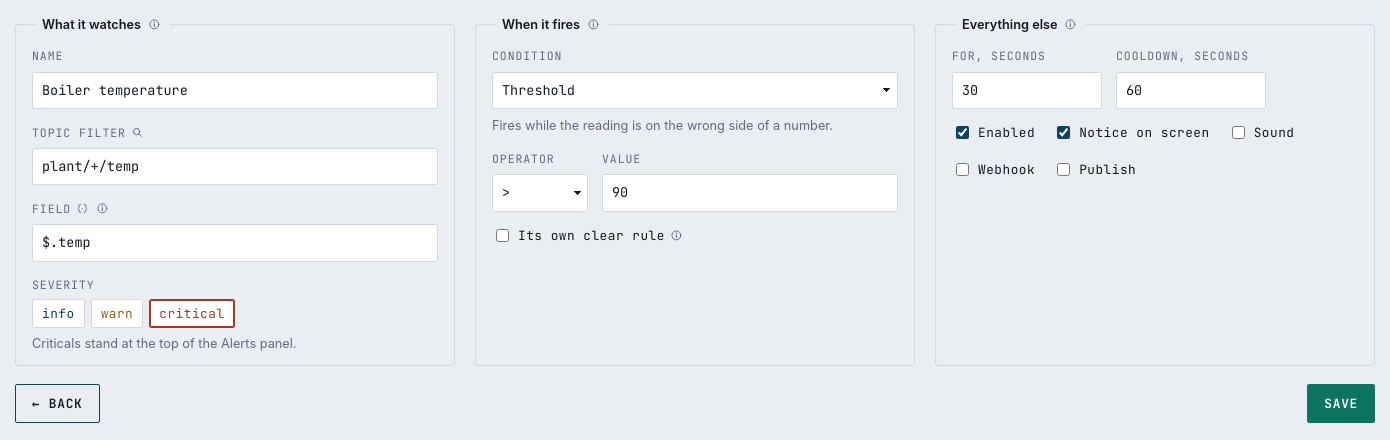
Test: what the editor refuses before the request › refuses a k outside the range the chosen method means
Select "Outlier" in the dropdown labelled "Condition": (695,90) [492,72,898,109]
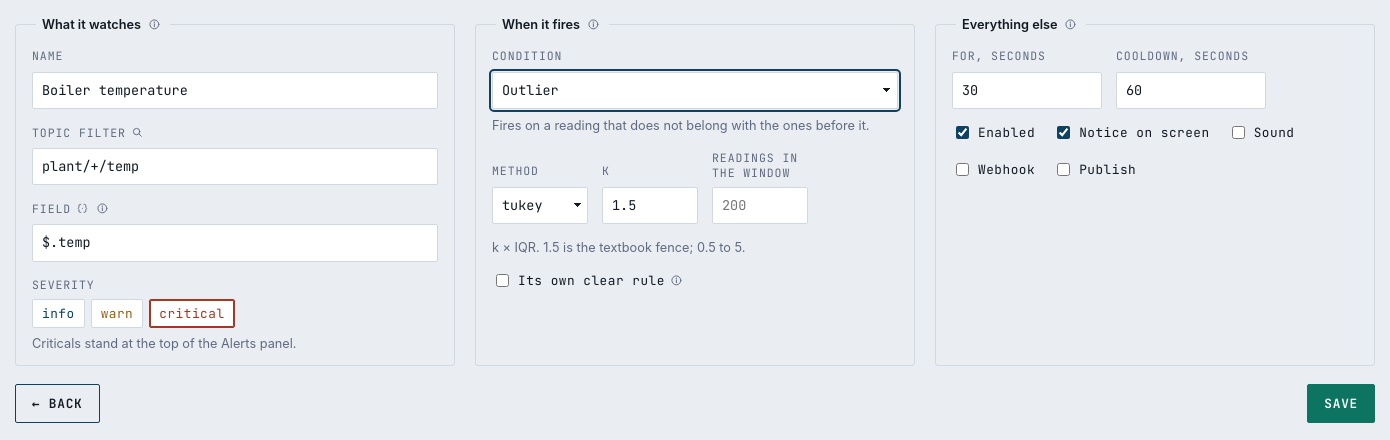
Select "sigma" in the dropdown labelled "Method": (540,205) [492,187,588,224]
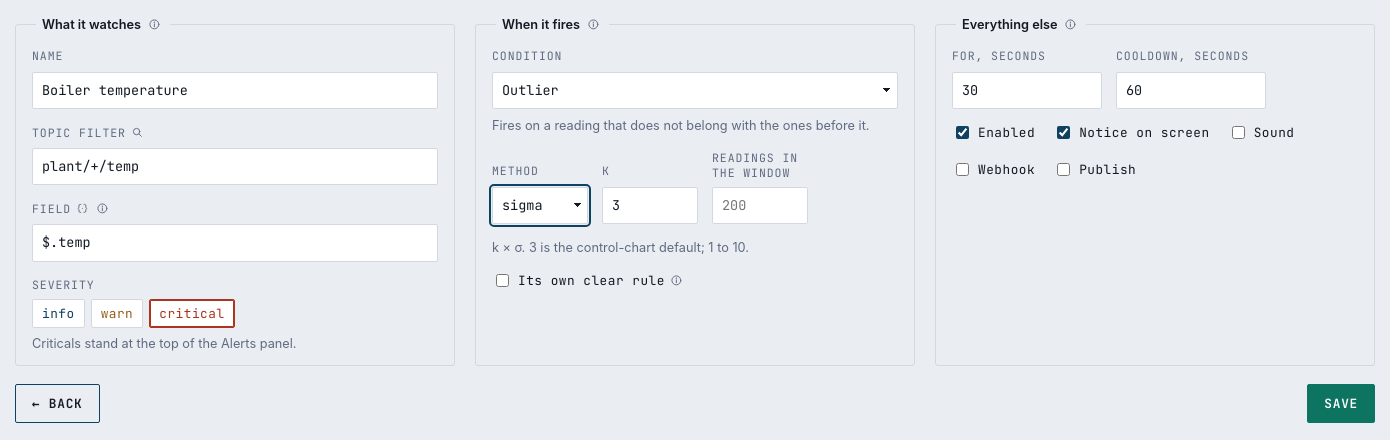
Replace the text in the field labelled "k" with "40": (650,205) [602,187,698,224]
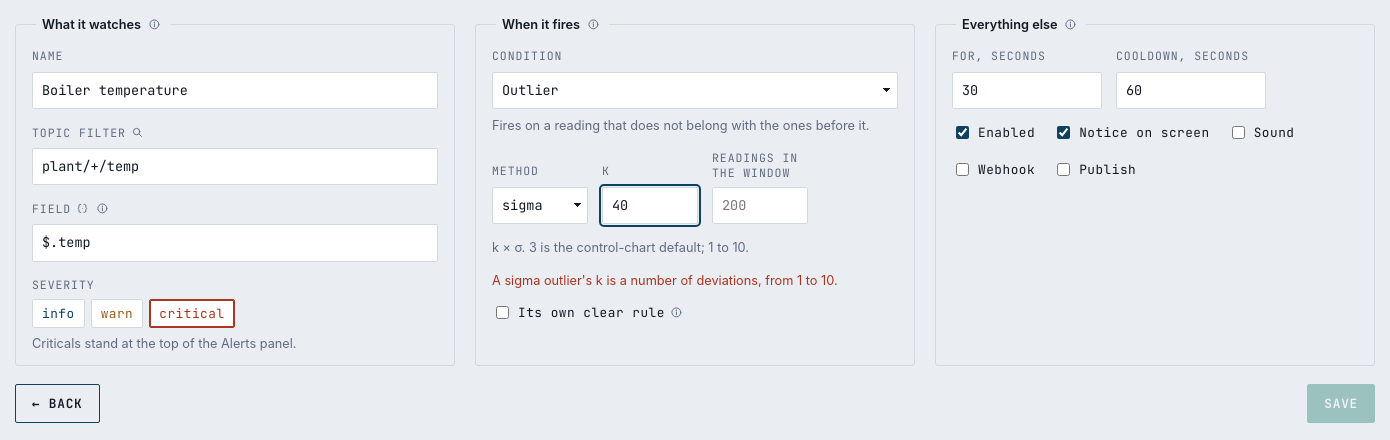
Expected: the text "A sigma outlier's k is a number of deviations, from 1 to 10." is shown, [492,271,898,290]
Expected: the button "Save" is disabled, [1307,384,1375,423]
